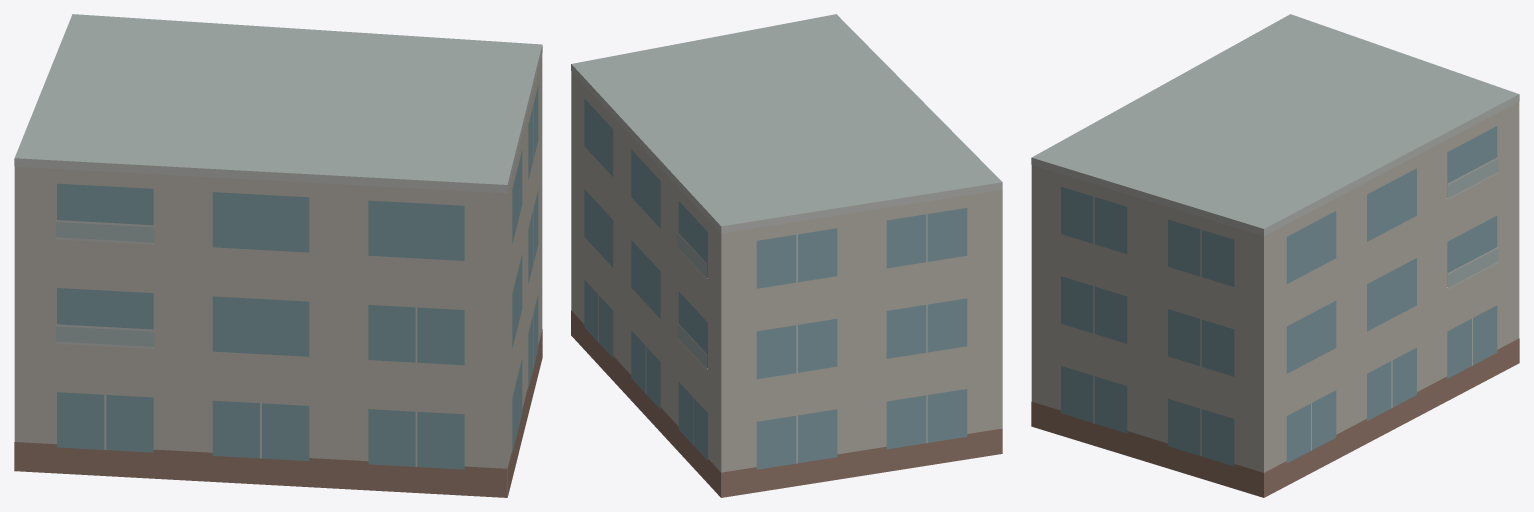
Rendered from survey-upis-32471115.glb.
The picture shows the model from 3 angles, left to right: view 1: azimuth 30°, elevation 25°; view 2: azimuth 150°, elevation 25°; view 3: azimuth 270°, elevation 25°; orthographic projection. The views are drawn at different scales.
Parts seen in each view (by area): view 1: survey-upis-32471115.tmp; view 2: survey-upis-32471115.tmp; view 3: survey-upis-32471115.tmp.
Part boxes in pixels (x1=…): survey-upis-32471115.tmp: x1=14, y1=14, x2=542, y2=497; survey-upis-32471115.tmp: x1=571, y1=14, x2=1002, y2=497; survey-upis-32471115.tmp: x1=1031, y1=14, x2=1519, y2=497.
Size of the model in its own units: 15.69 by 9.15 by 15.06.
